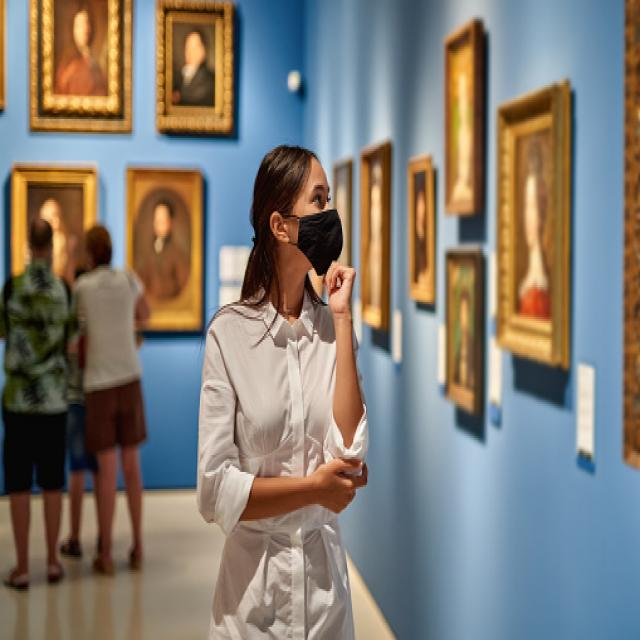Tablo: (512, 122, 554, 329), (132, 179, 195, 315), (25, 180, 86, 288), (169, 17, 219, 113), (450, 36, 472, 203), (450, 262, 475, 397), (412, 168, 428, 293)
